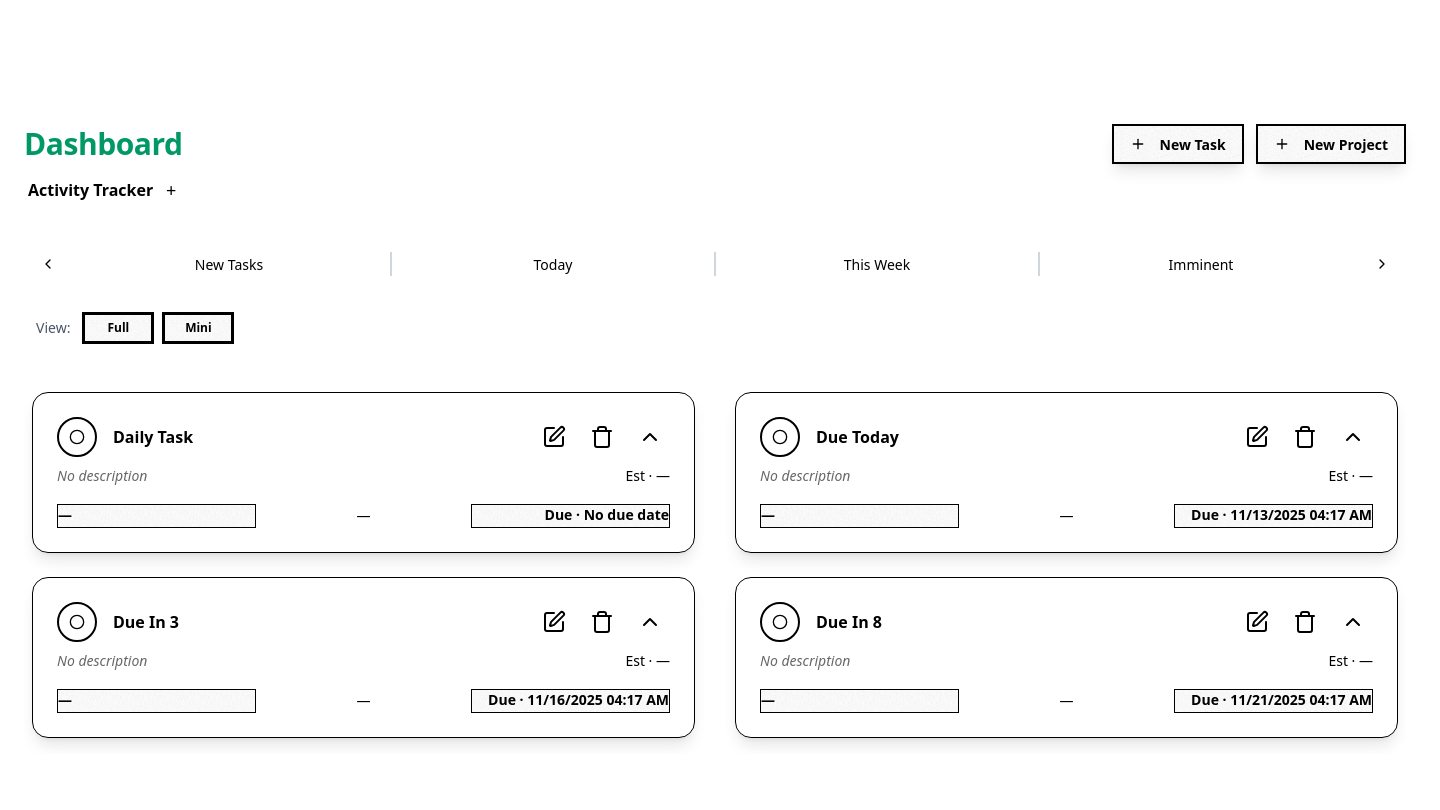
it: Dashboard bucketing › shows daily and due-today tasks in Today view
Click the Today tab
Step 1. Click the tab "Today" → (553, 264), box left=404, top=244, right=702, bottom=284
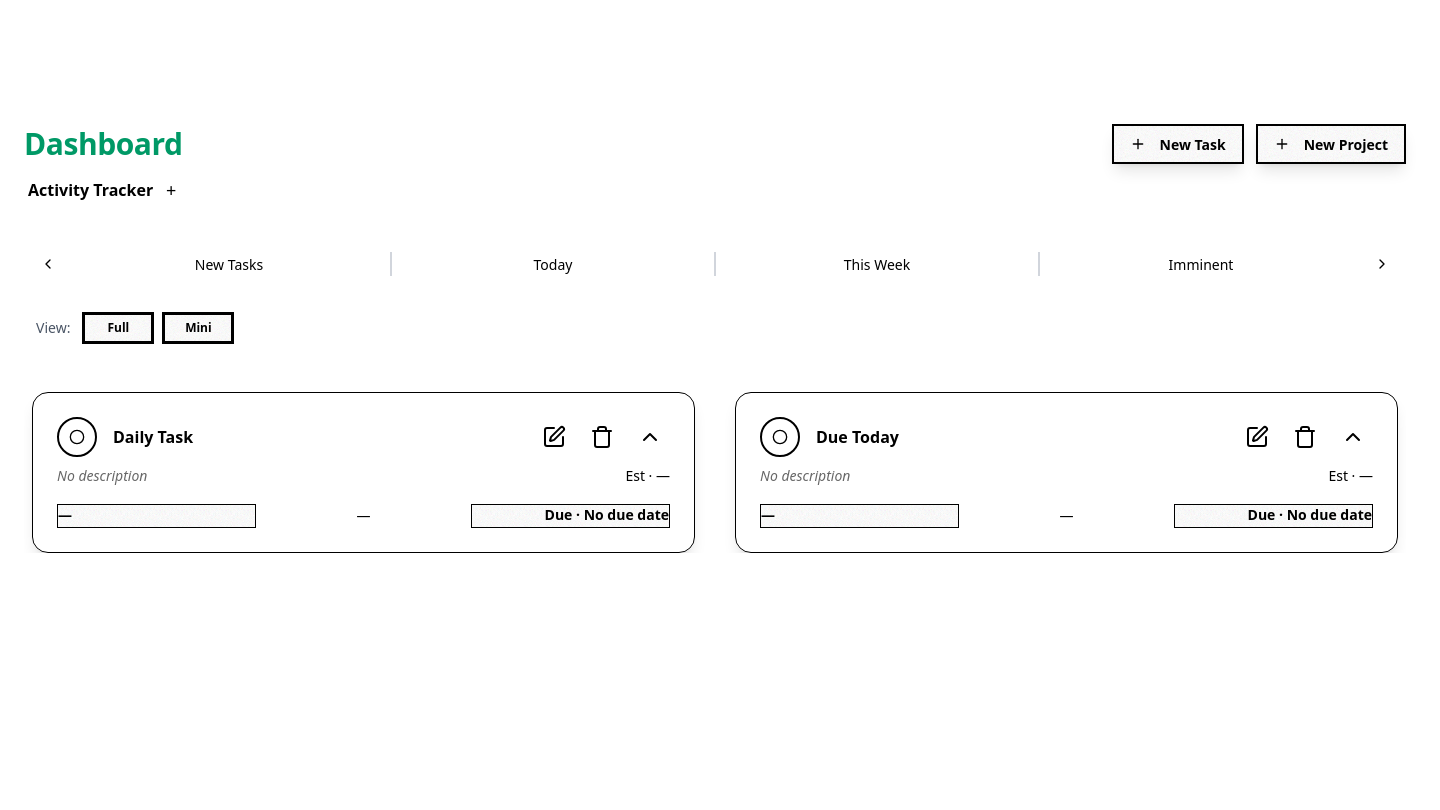
Check: the element named "task daily task" is shown, box left=32, top=392, right=695, bottom=553
Check: the element named "task due today" is shown, box left=735, top=392, right=1398, bottom=553
